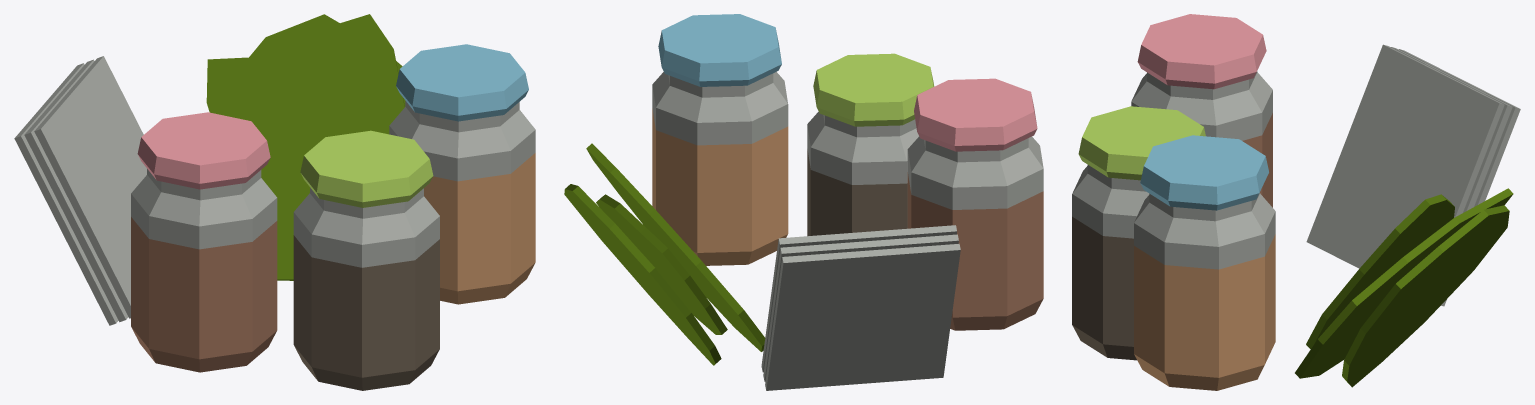
The model's file is SM_Vendor_WareFill_02.fbx.
The picture shows the model from 3 angles, left to right: view 1: azimuth 30°, elevation 25°; view 2: azimuth 150°, elevation 25°; view 3: azimuth 270°, elevation 25°; orthographic projection. The views are drawn at different scales.
Parts seen in each view (by area): view 1: SM_Vendor_WareFill_02; view 2: SM_Vendor_WareFill_02; view 3: SM_Vendor_WareFill_02.
Boxes of the visible parts, x1,y1,x2,y2 form: SM_Vendor_WareFill_02: (14,14,535,390); SM_Vendor_WareFill_02: (564,14,1043,390); SM_Vendor_WareFill_02: (1072,14,1520,390).
Bounding box in the file's own units: 0.3546 × 0.2178 × 0.3415.
Materials: 1 (1 with a texture image).
